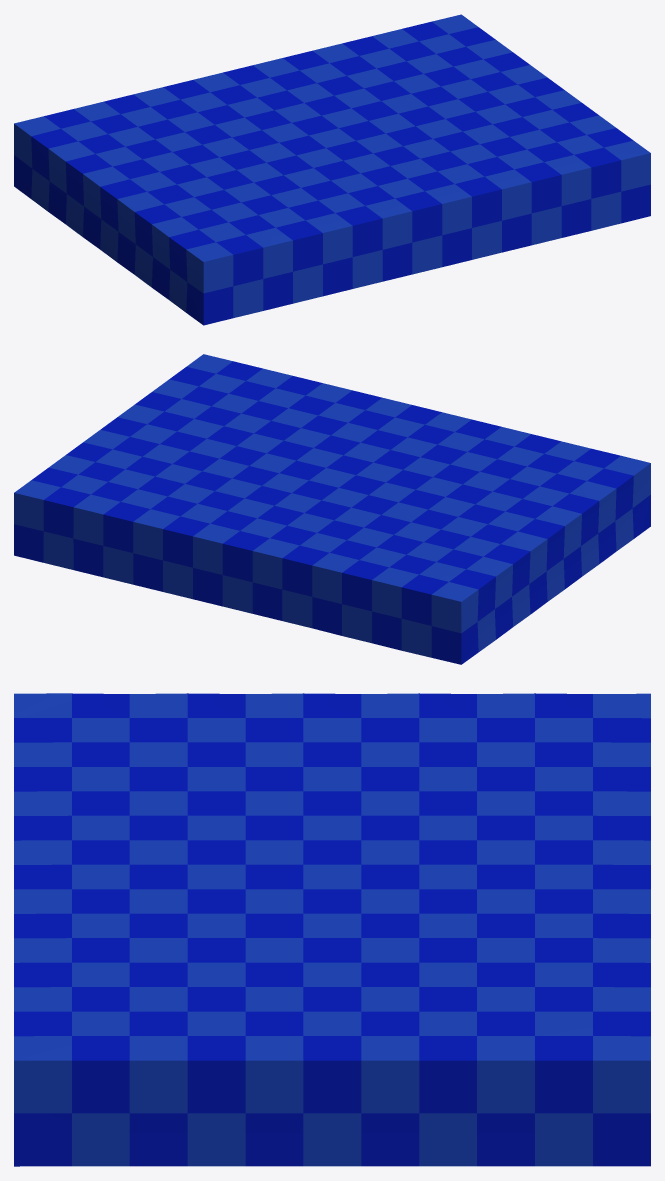
File: teentoilet tile_big.fbx
The picture shows the model from 3 angles, top to bottom: view 1: azimuth 30°, elevation 25°; view 2: azimuth 150°, elevation 25°; view 3: azimuth 270°, elevation 25°; orthographic projection. The views are drawn at different scales.
Parts seen in each view (by area): view 1: Object003; view 2: Object003; view 3: Object003.
Boxes of the visible parts, x1,y1,x2,y2 form: Object003: [14, 14, 650, 325]; Object003: [14, 354, 650, 664]; Object003: [14, 693, 650, 1166].
Bounding box in the file's own units: 59.06 × 8.02 × 43.32.
